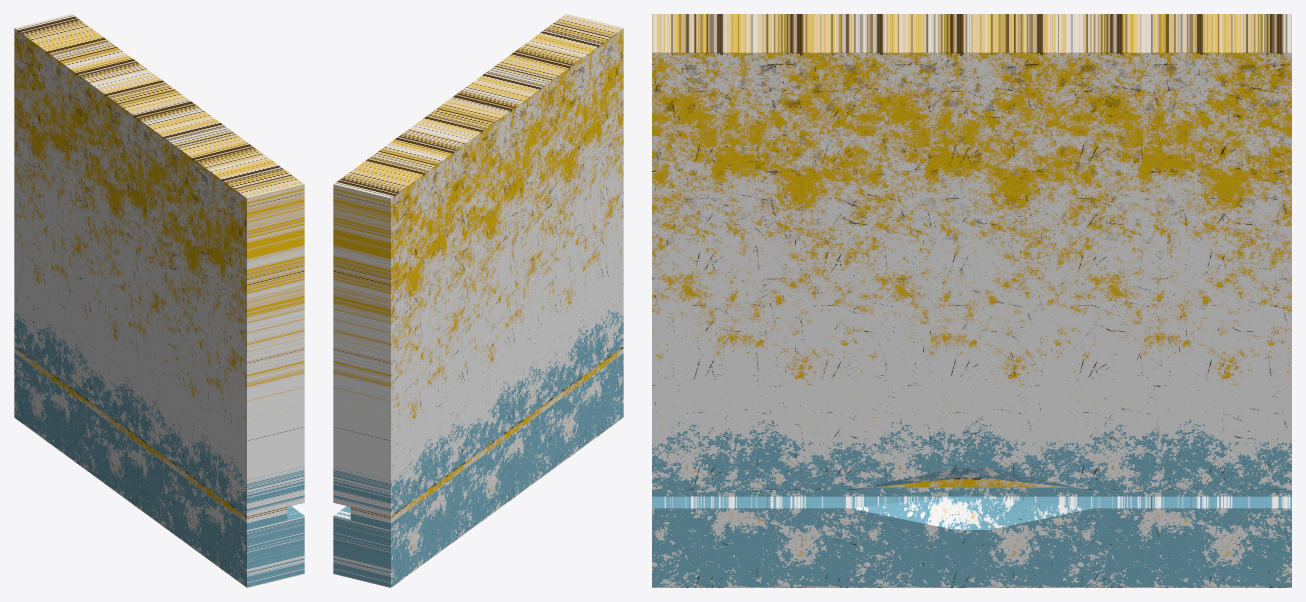
File: Modular_Dungeon_wall_simple_B.fbx
The picture shows the model from 3 angles, left to right: view 1: azimuth 30°, elevation 25°; view 2: azimuth 150°, elevation 25°; view 3: azimuth 270°, elevation 25°; orthographic projection. The views are drawn at different scales.
Visible parts, largest first — view 1: Wand_; view 2: Wand_; view 3: Wand_.
Part boxes in pixels (x1=…): Wand_: x1=14, y1=14, x2=304, y2=587; Wand_: x1=333, y1=14, x2=623, y2=587; Wand_: x1=652, y1=14, x2=1291, y2=587.
Bounding box in the file's own units: 40 × 259 × 280.
